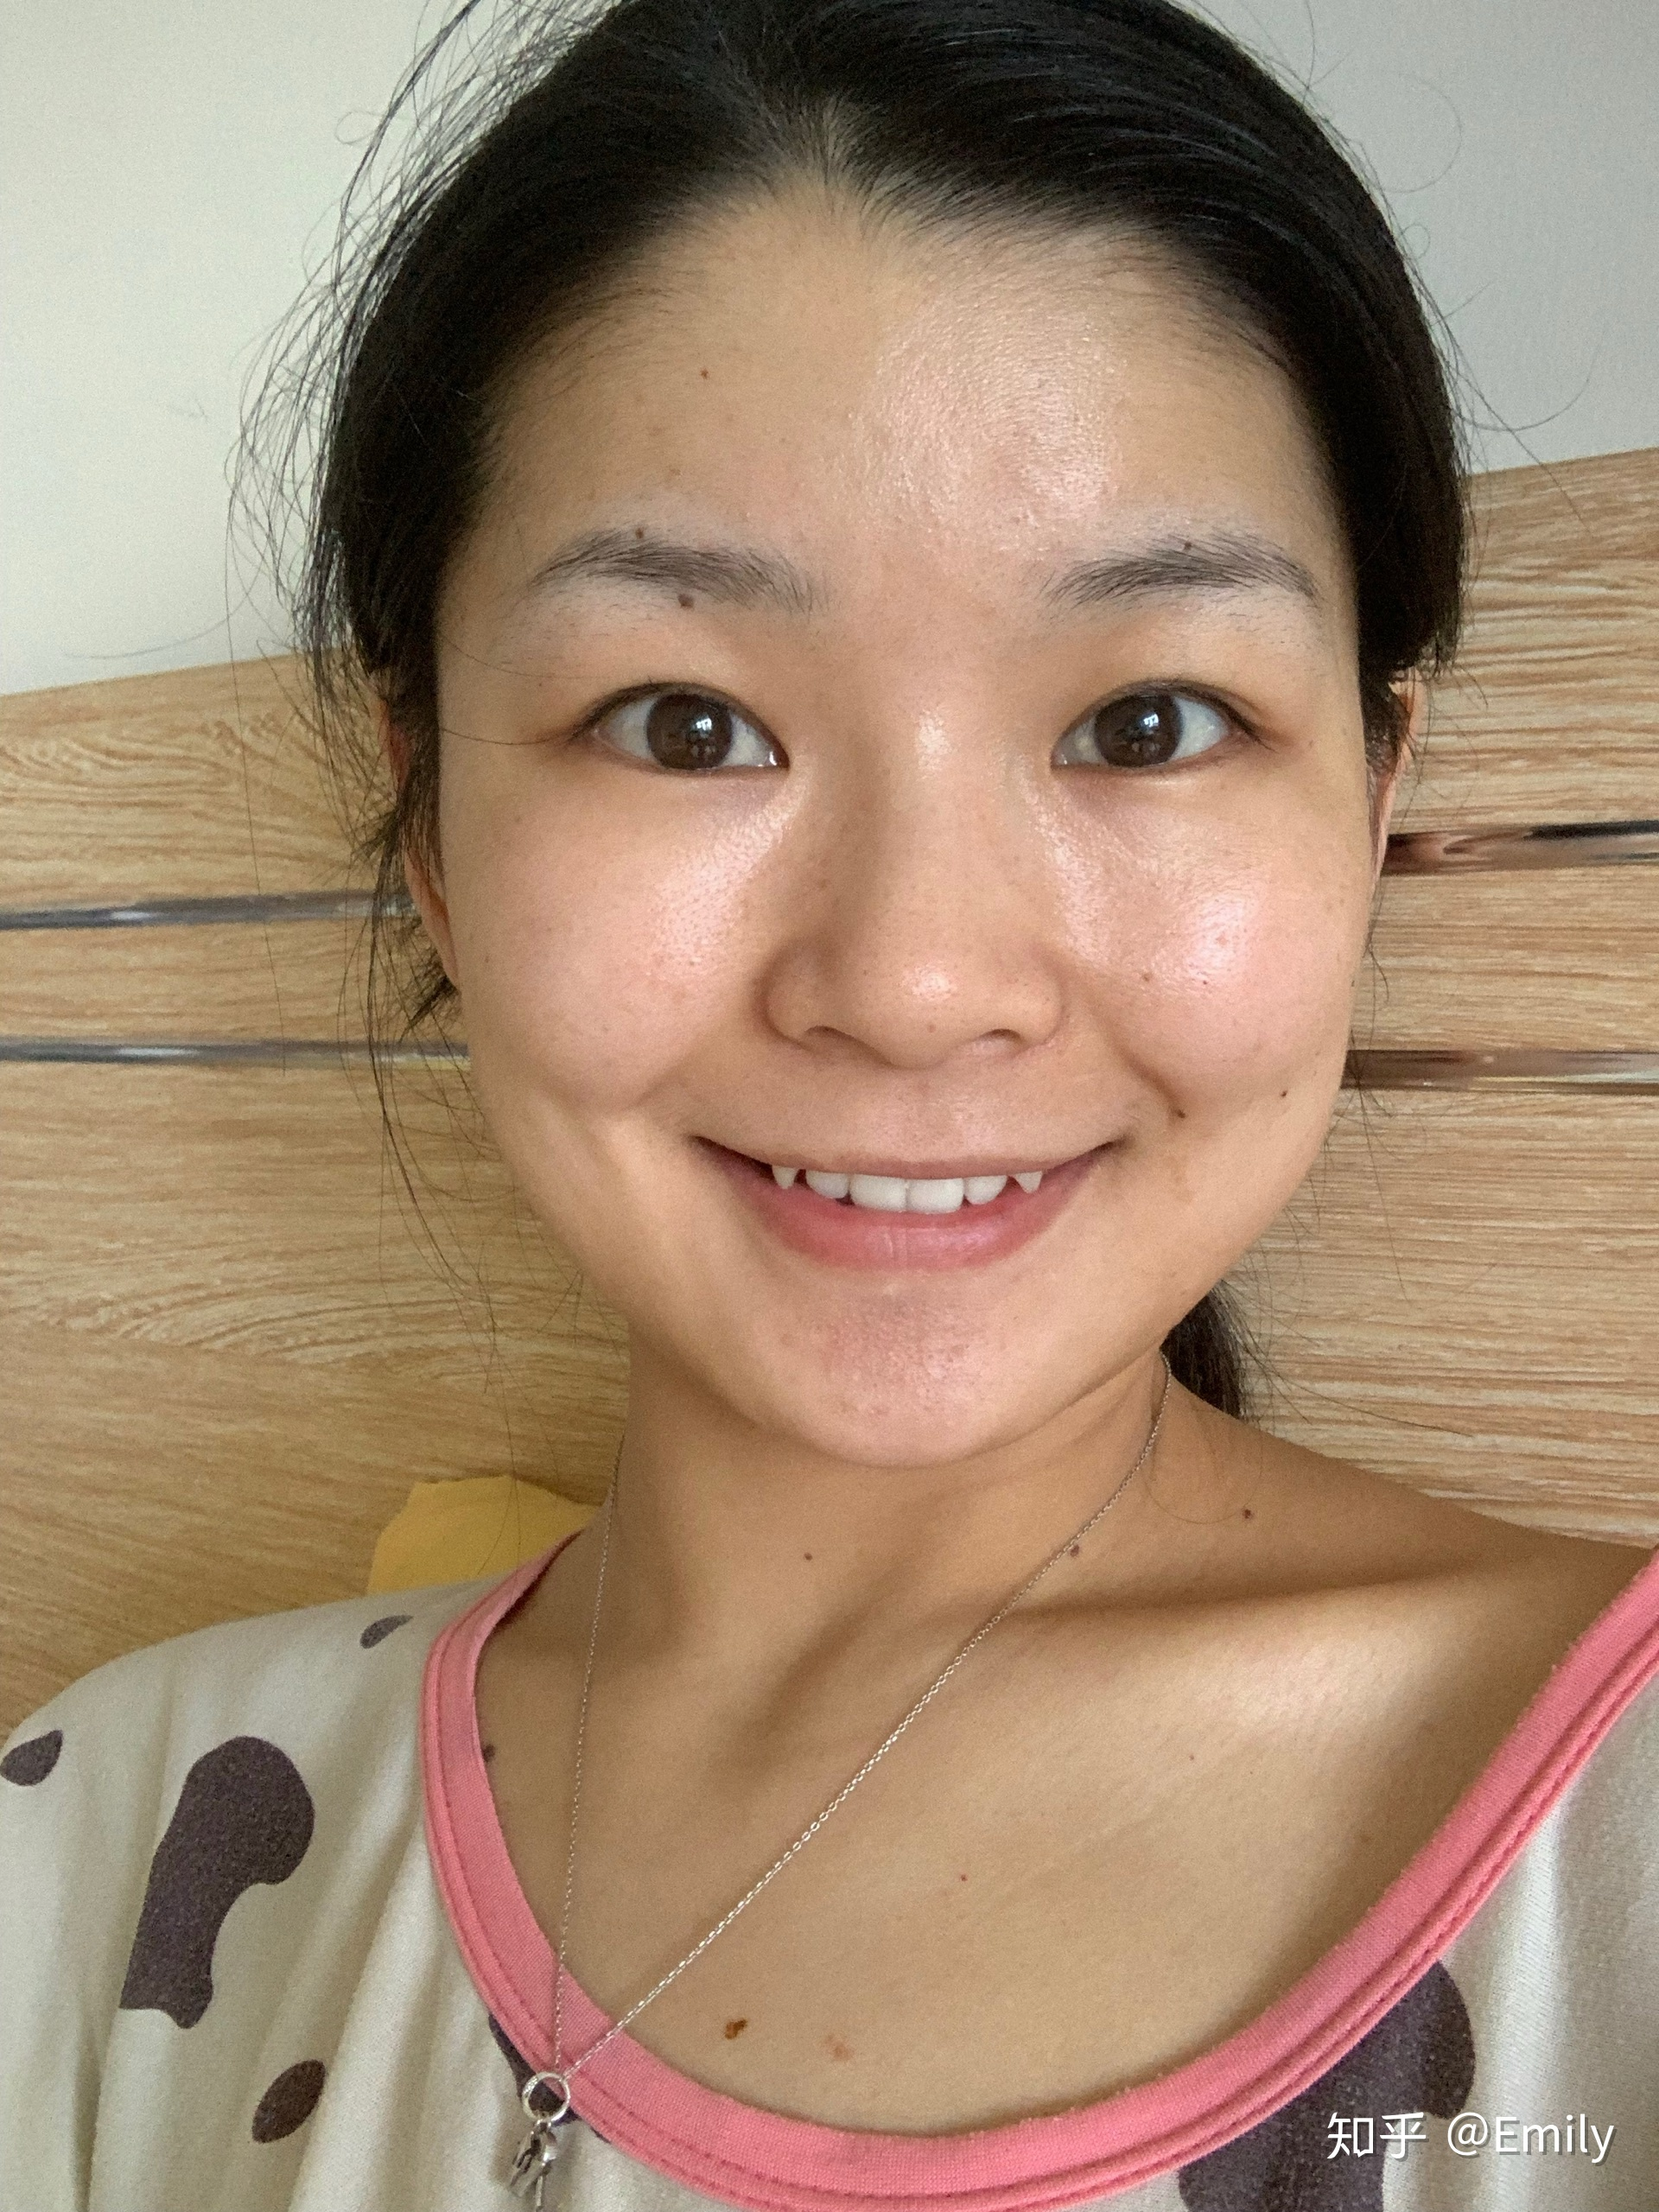person: (254, 9, 1472, 1499)
